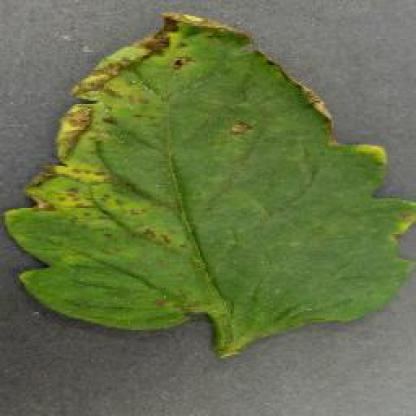bad leaf: (24, 2, 414, 372)
